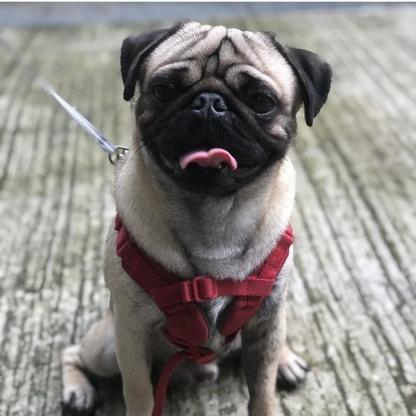Pug: (56, 17, 337, 416)
